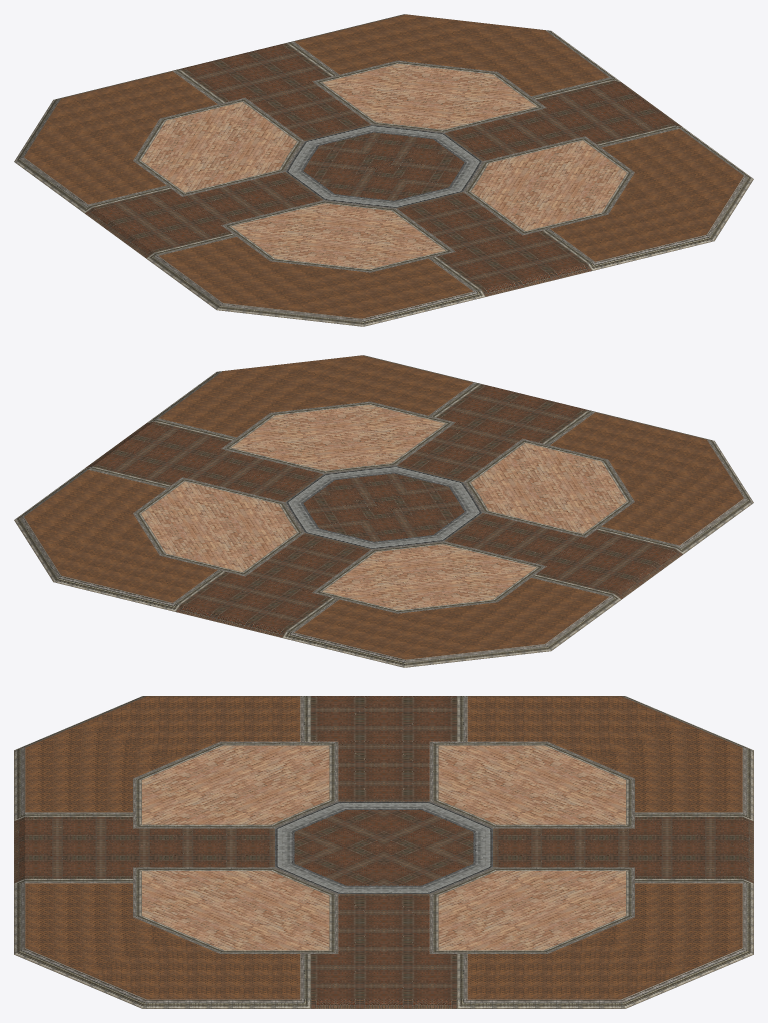
File: SwordSpirit_Square_square.FBX
3 renders of one model, top to bottom at view 1: azimuth 30°, elevation 25°; view 2: azimuth 150°, elevation 25°; view 3: azimuth 270°, elevation 25°, orthographic. The views are drawn at different scales.
Parts seen in each view (by area): view 1: Object12; view 2: Object12; view 3: Object12.
Boxes of the visible parts, x1,y1,x2,y2 form: Object12: [14, 14, 753, 326]; Object12: [14, 355, 753, 667]; Object12: [14, 696, 753, 1008].
Bounding box in the file's own units: 2693 × 18.61 × 2693.
5 materials, 5 textured.
